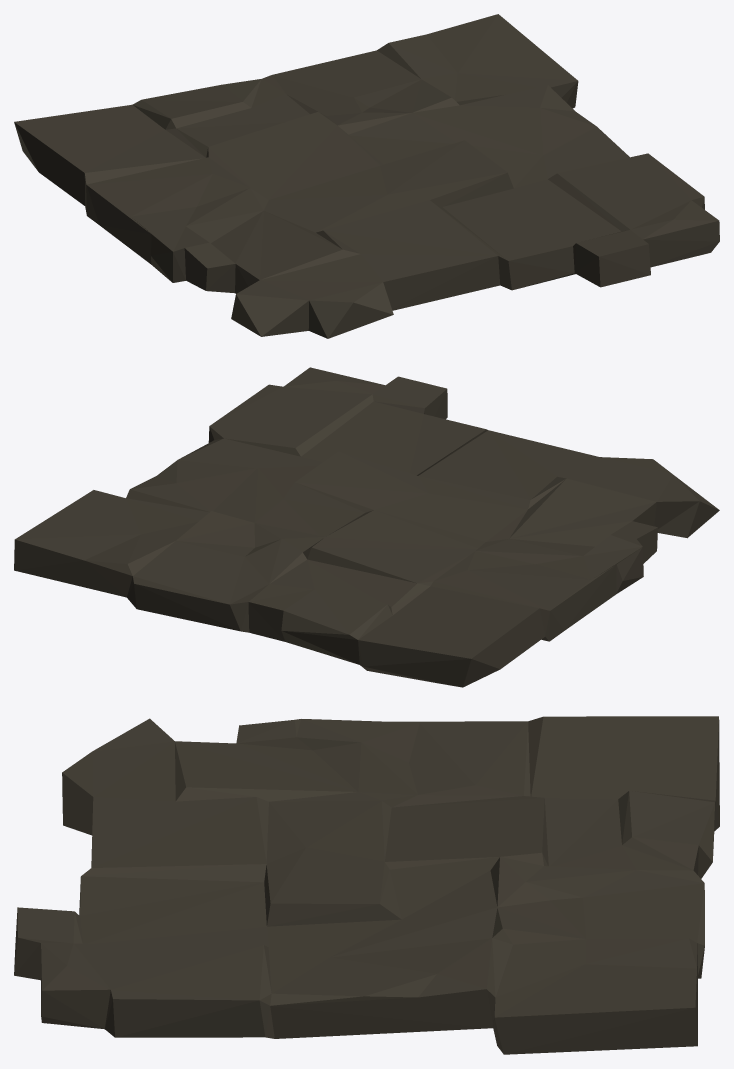
Rendered from Brick_1.fbx.
The picture shows the model from 3 angles, top to bottom: view 1: azimuth 30°, elevation 25°; view 2: azimuth 150°, elevation 25°; view 3: azimuth 270°, elevation 25°; orthographic projection. The views are drawn at different scales.
Visible parts, largest first — view 1: Group54960; view 2: Group54960; view 3: Group54960.
Part boxes in pixels (box(x1,y1,x2,y2)): Group54960: box(14, 14, 719, 338); Group54960: box(14, 367, 719, 687); Group54960: box(14, 716, 719, 1054).
Bounding box in the file's own units: 7.12 × 0.693 × 7.18.
